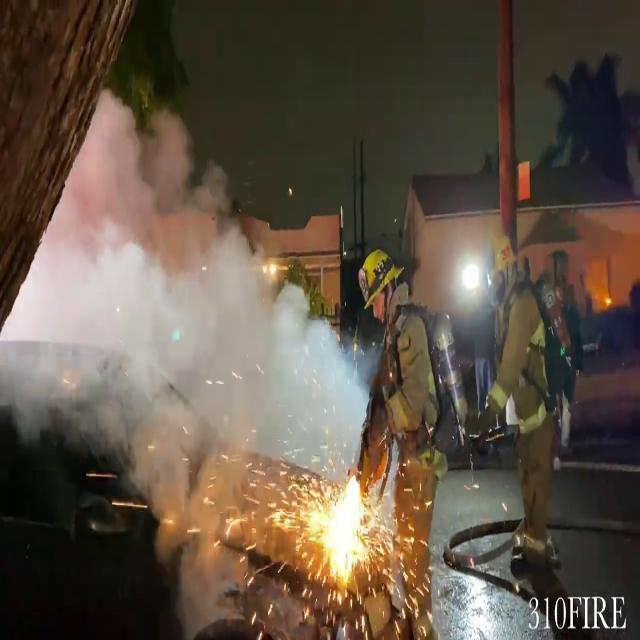Fire: (312, 463, 377, 609)
Smoke: (0, 77, 360, 595)
